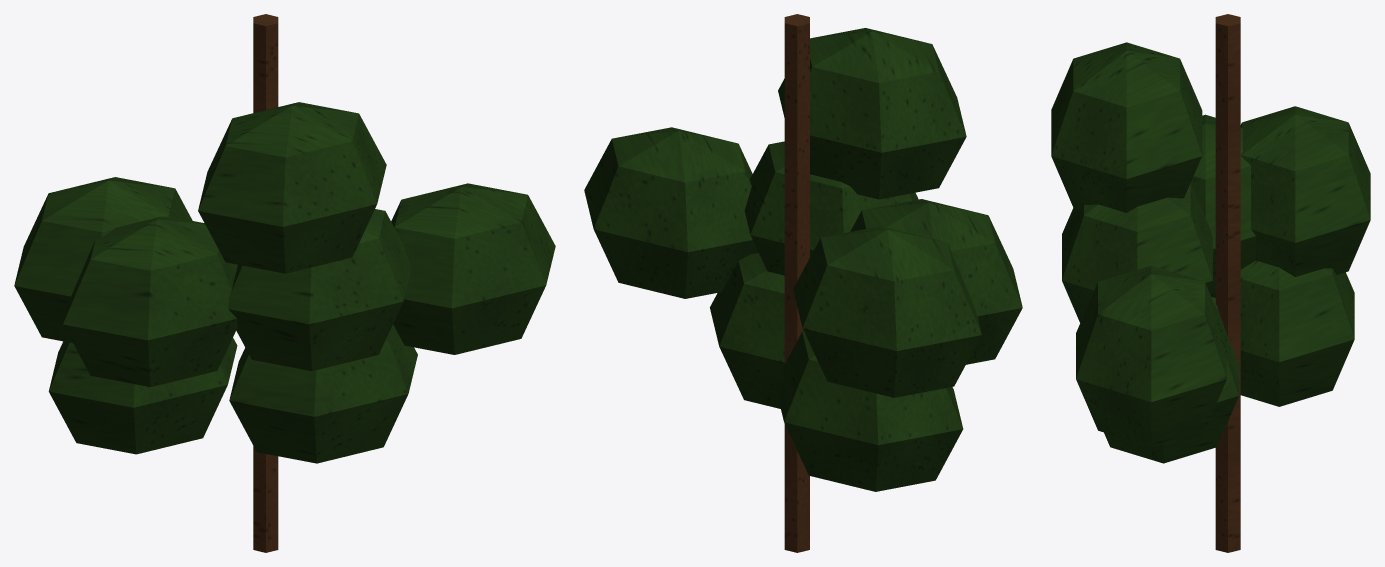
The model's file is PROP-4E5DD56A1882_lod2.glb.
The picture shows the model from 3 angles, left to right: view 1: azimuth 30°, elevation 25°; view 2: azimuth 150°, elevation 25°; view 3: azimuth 270°, elevation 25°; orthographic projection.
Visible parts, largest first — view 1: foliage.015, vine_stake.001; view 2: foliage.015, vine_stake.001; view 3: foliage.015, vine_stake.001.
Part boxes in pixels (x1=…): foliage.015: x1=14, y1=102, x2=555, y2=463; vine_stake.001: x1=253, y1=14, x2=278, y2=552; foliage.015: x1=584, y1=28, x2=1022, y2=491; vine_stake.001: x1=784, y1=14, x2=809, y2=552; foliage.015: x1=1051, y1=42, x2=1370, y2=463; vine_stake.001: x1=1215, y1=14, x2=1240, y2=552.
Bounding box in the file's own units: 1.49 × 1.6 × 0.8798.
2 materials, 2 textured.
